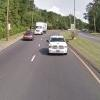Car: (18, 26, 35, 47)
